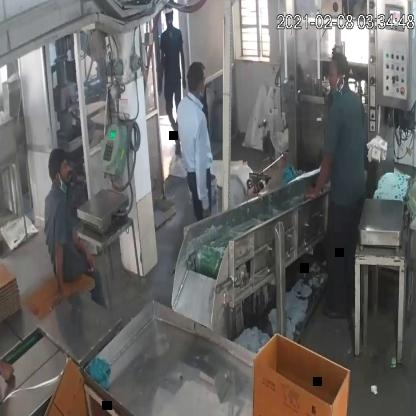no_glove: (296, 120, 338, 203), (49, 225, 77, 324), (193, 127, 216, 225), (67, 212, 93, 278), (0, 318, 23, 389), (177, 33, 192, 97)
